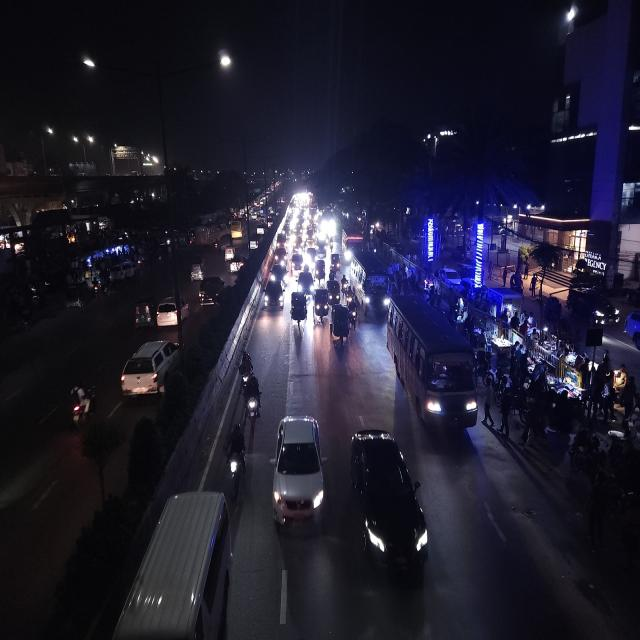bus: (384, 292, 480, 437), (351, 250, 391, 318), (341, 228, 363, 262), (195, 218, 221, 246), (230, 217, 244, 242)
car: (105, 491, 235, 640), (348, 422, 431, 592), (270, 407, 326, 538), (118, 336, 182, 403), (156, 294, 190, 329), (197, 274, 227, 309), (262, 280, 286, 314), (266, 261, 290, 287), (296, 266, 314, 296), (290, 251, 304, 275), (272, 246, 288, 266), (330, 251, 342, 273)
cng: (329, 303, 352, 346), (288, 289, 308, 334), (132, 298, 154, 329), (314, 285, 330, 326), (62, 283, 84, 311), (187, 259, 206, 283), (314, 257, 328, 285), (328, 276, 341, 304), (226, 242, 233, 262)
motorcycle: (224, 421, 248, 498), (69, 381, 97, 433), (240, 372, 264, 425), (234, 349, 256, 381), (340, 272, 350, 294)
